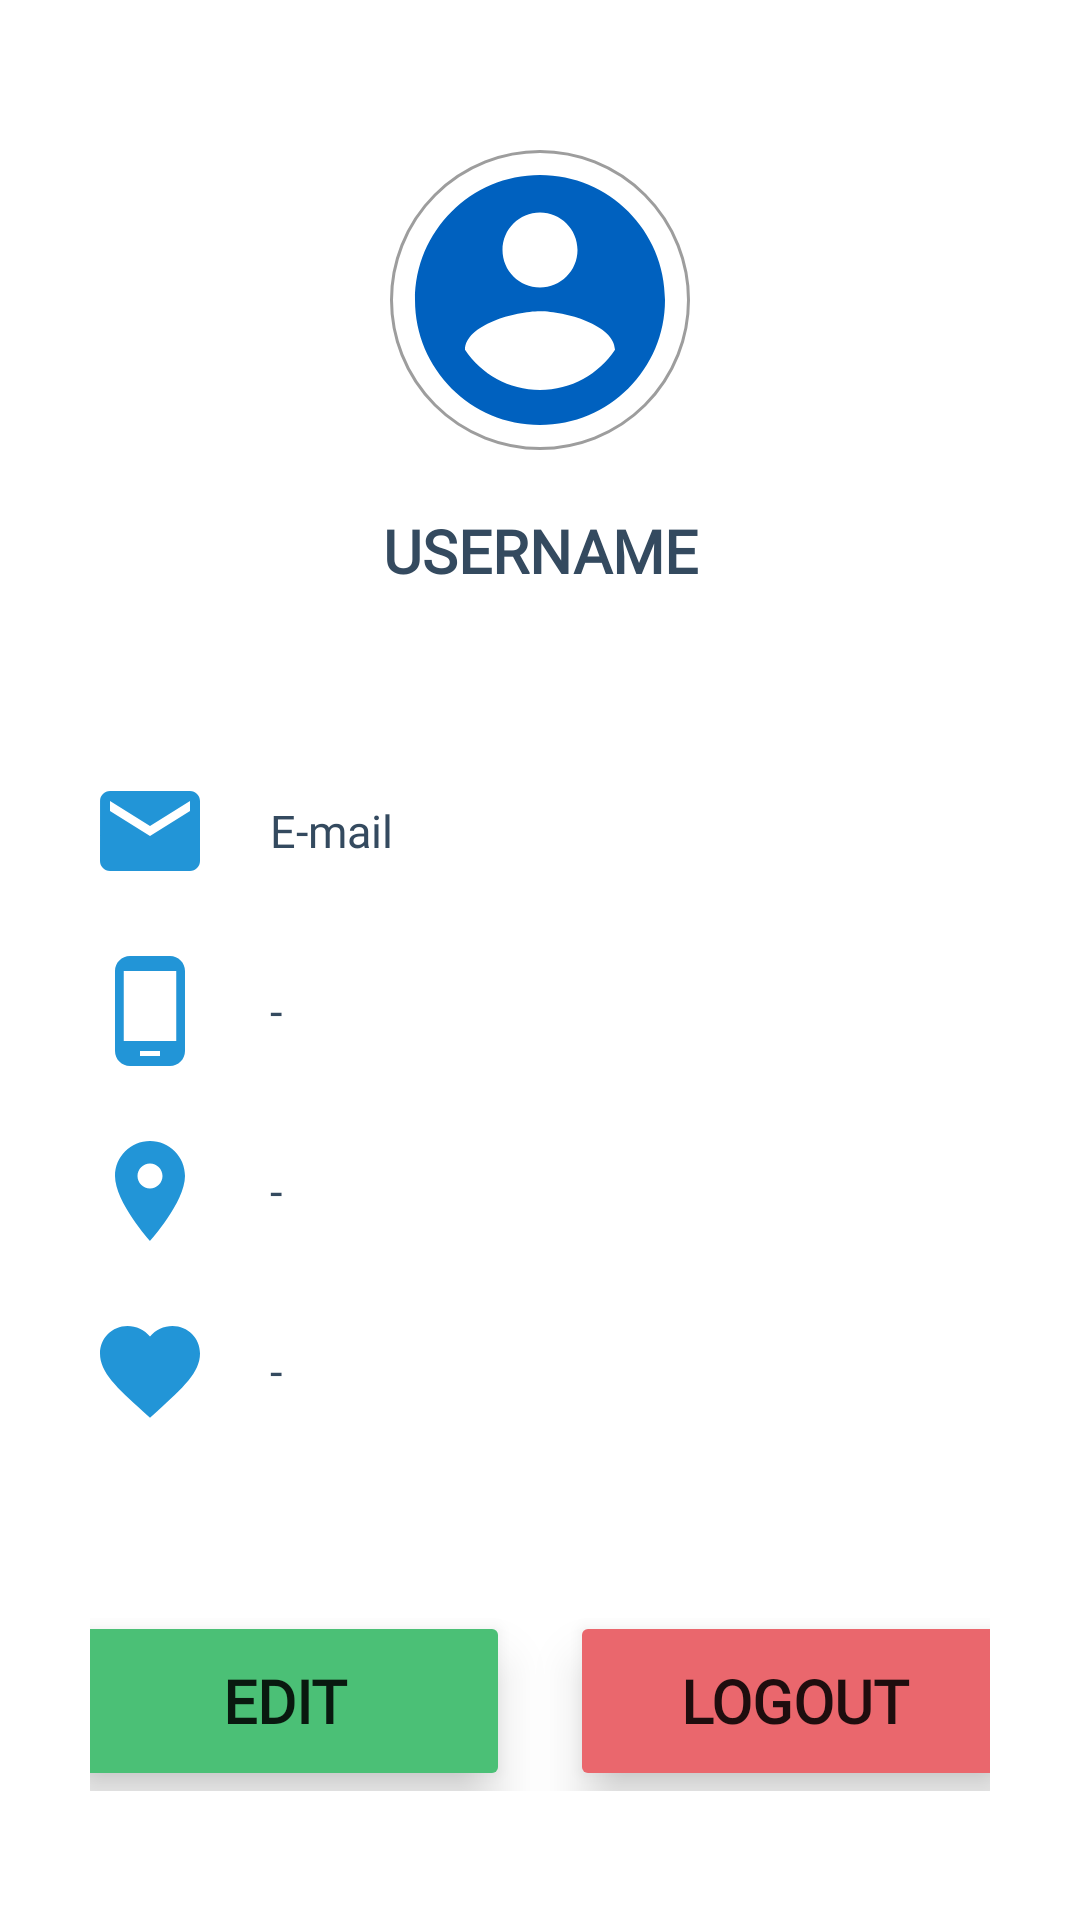

Icon bounding boxes for this 1080px×1920px phone screenshot, format [x1, y1, x2, y2]:
account: [390, 150, 690, 450]
favorite focus: [100, 1326, 200, 1418]
location focus: [115, 1141, 185, 1241]
phone focus: [115, 956, 185, 1066]
